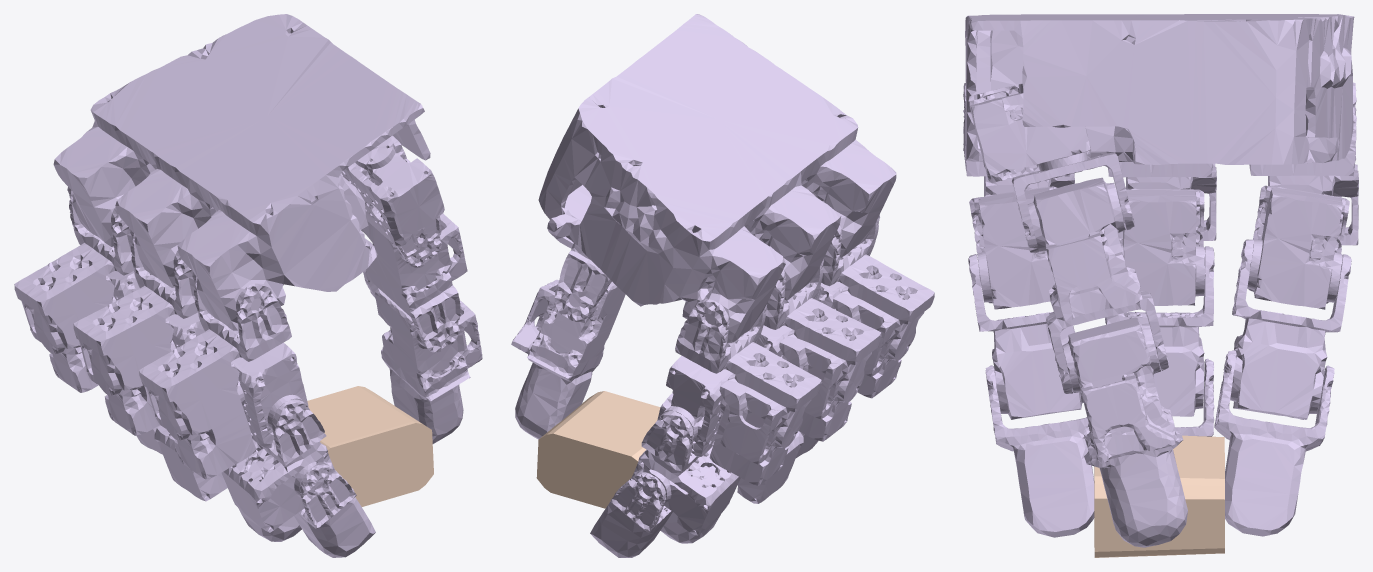
File: 757236c9007646-closed.glb
3 renders of one model, left to right at view 1: azimuth 30°, elevation 25°; view 2: azimuth 150°, elevation 25°; view 3: azimuth 270°, elevation 25°, orthographic. The views are drawn at different scales.
Visible parts, largest first — view 1: LEAP_hand, world; view 2: LEAP_hand, world; view 3: LEAP_hand, world.
Boxes of the visible parts, x1=… form: LEAP_hand: x1=14, y1=14, x2=482, y2=557; world: x1=307, y1=386, x2=433, y2=506; LEAP_hand: x1=511, y1=14, x2=934, y2=557; world: x1=536, y1=391, x2=660, y2=508; LEAP_hand: x1=963, y1=14, x2=1358, y2=547; world: x1=1094, y1=435, x2=1224, y2=557.
Size of the model in its own units: 0.1613 by 0.1952 by 0.1266.
